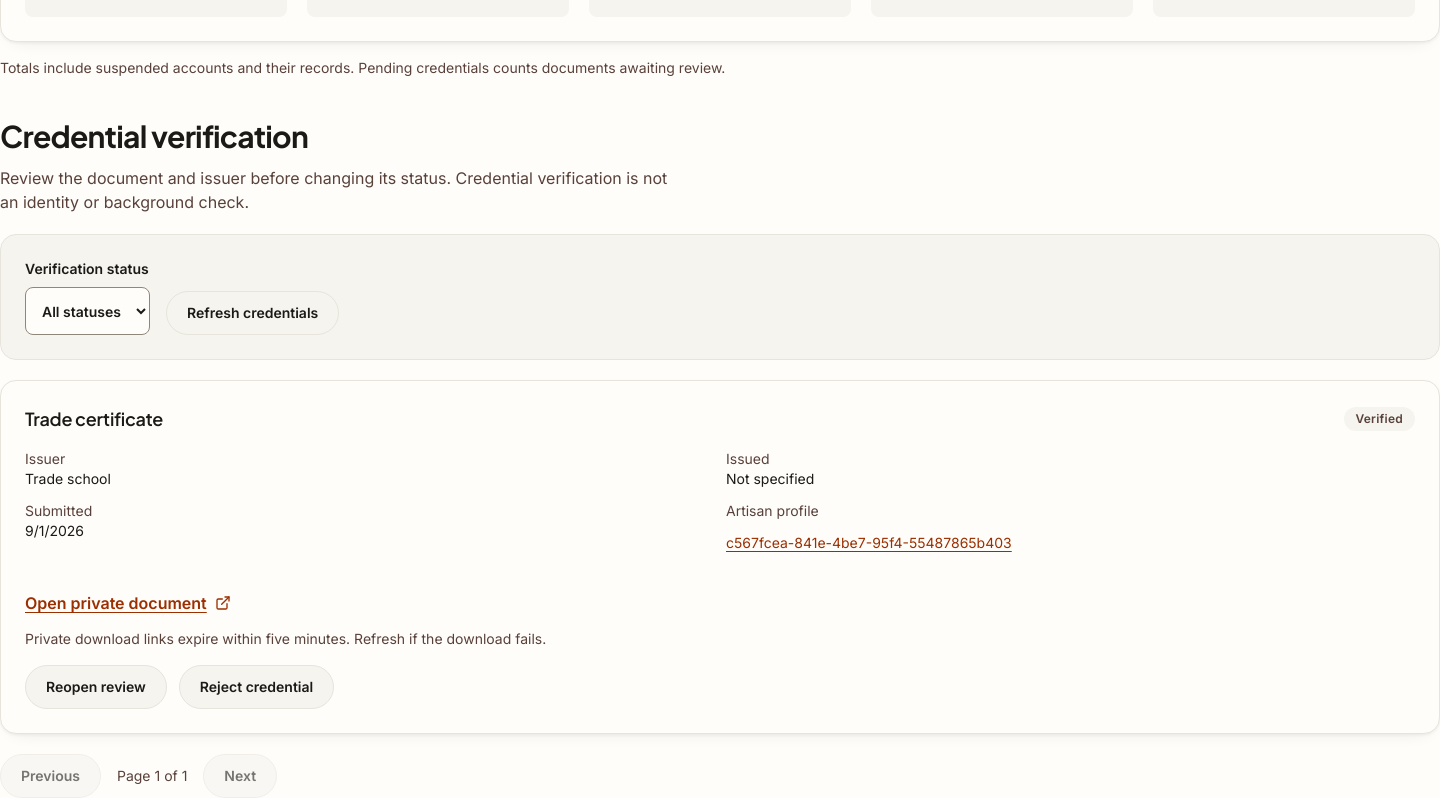
Test: supports correction from VERIFIED with Reopen review
(page scrolled)
Expected: the heading "Trade certificate" is shown, [25,405,163,433]
Click the button "Reopen review". click: (96, 687)
box: [25,665,167,709]
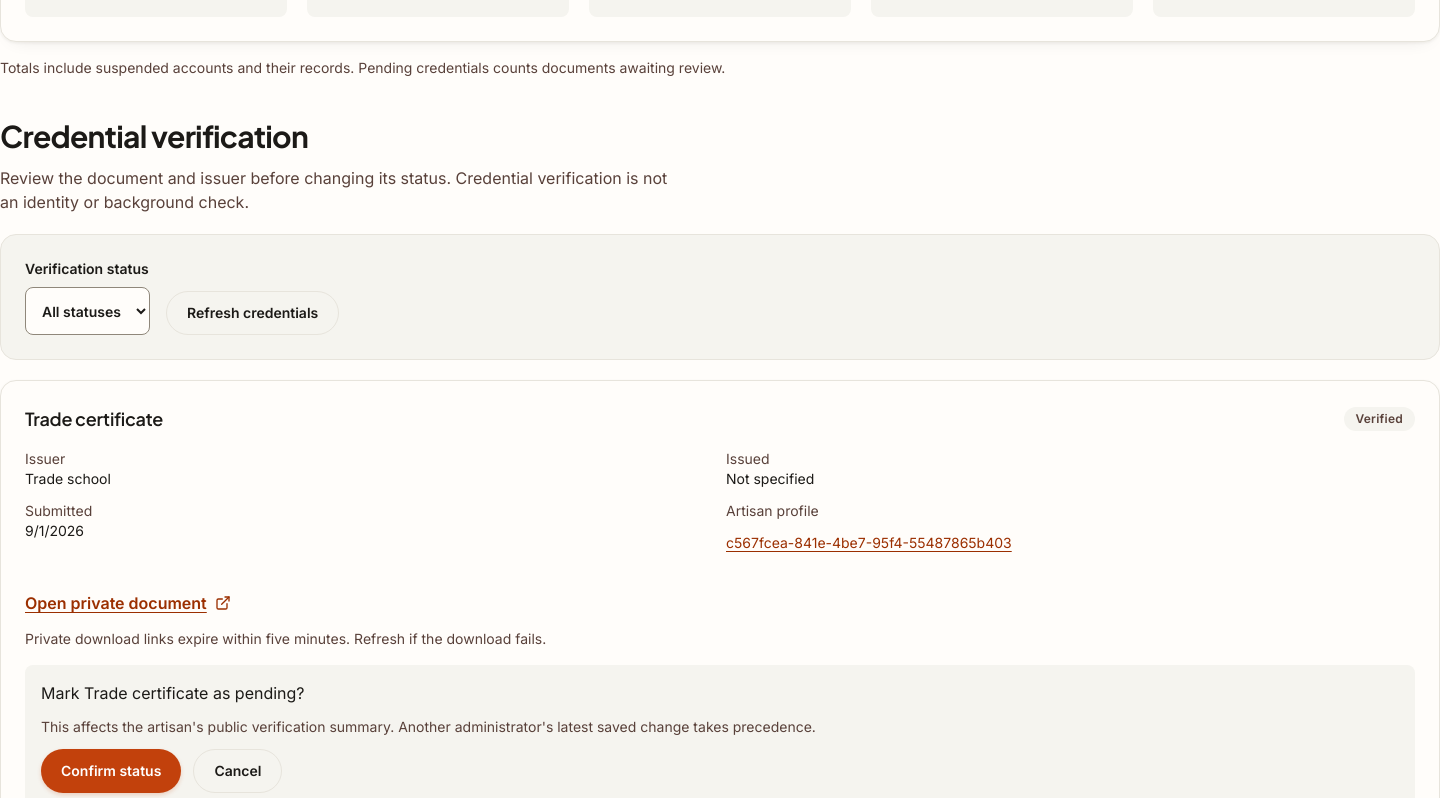
Click the button "Confirm status". click: (111, 771)
box: [41,749,181,793]
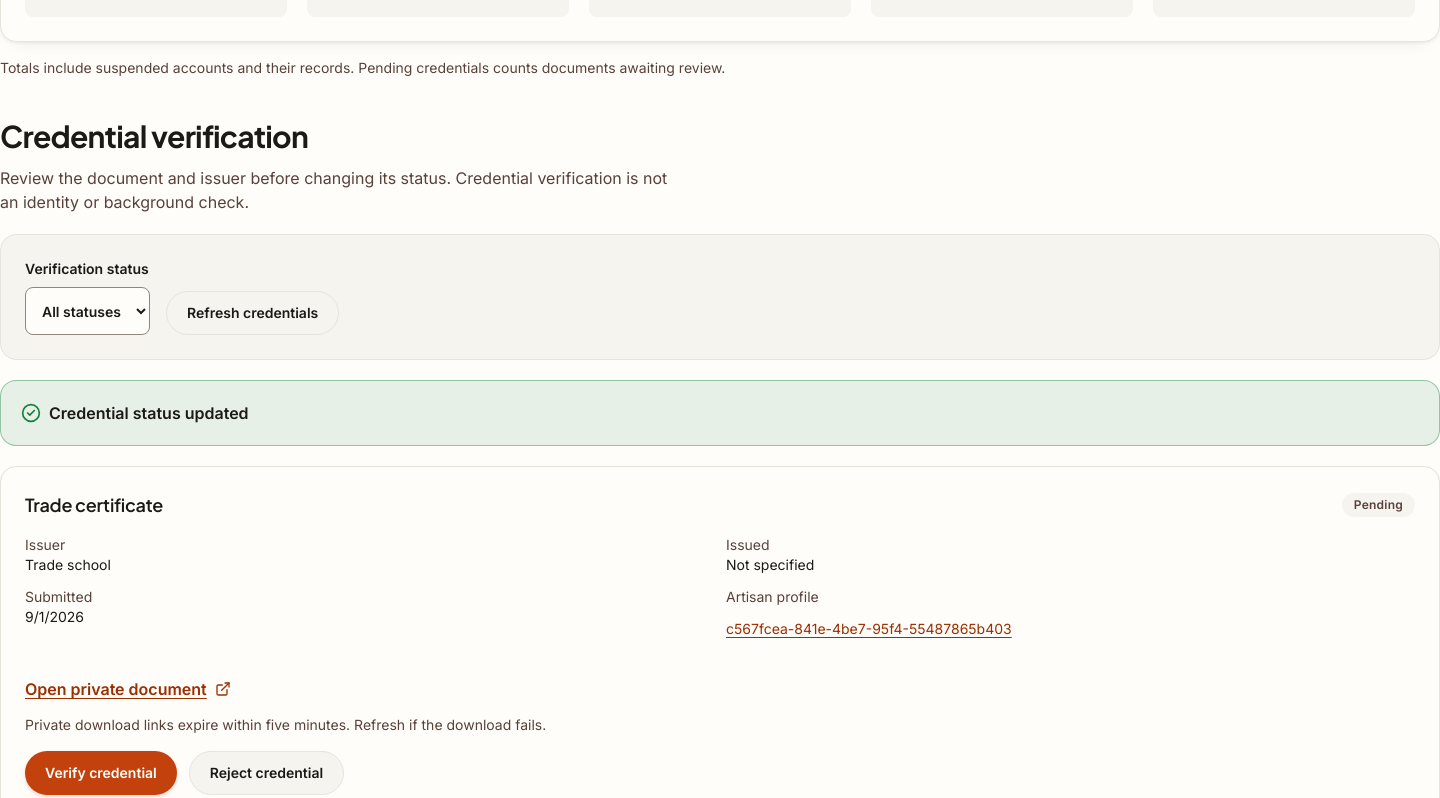
Expected: the text "Credential status updated" is shown, [21,403,249,423]
